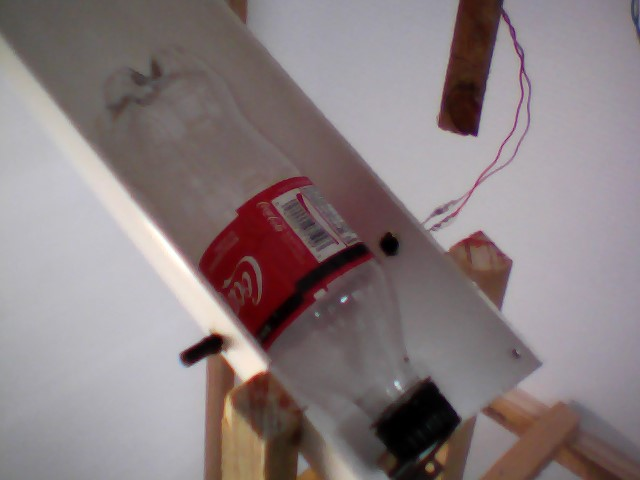plastico: (89, 43, 464, 465)
